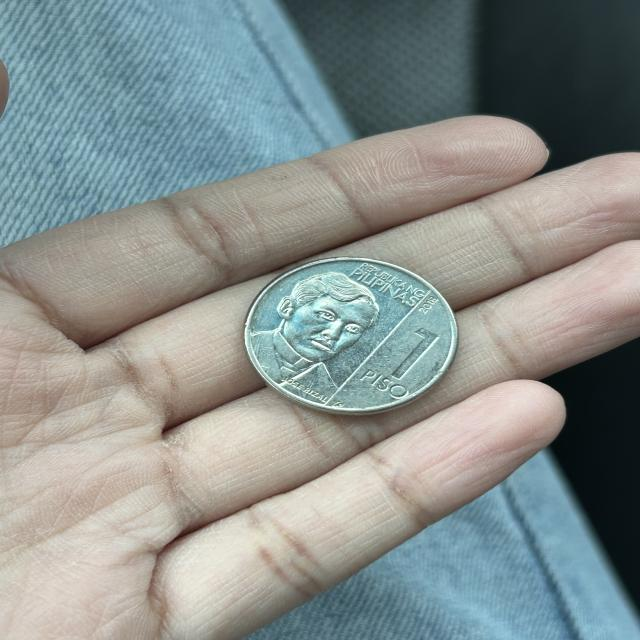1_New_Front: (359, 322, 433, 403)
